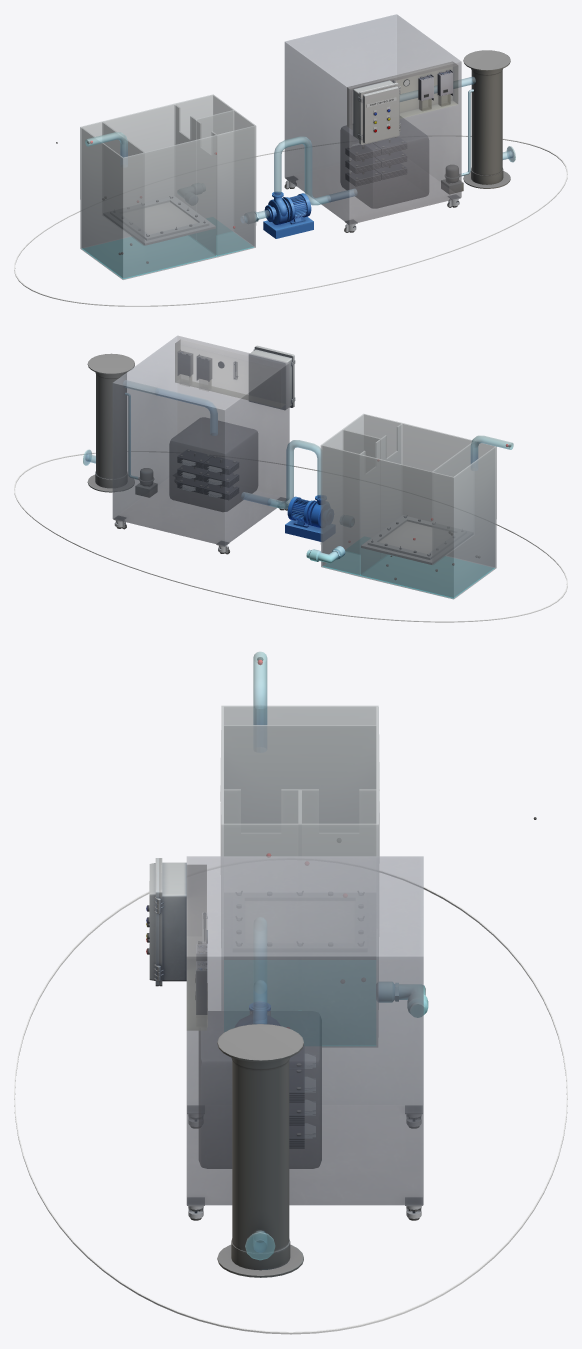
3 renders of one model, top to bottom at view 1: azimuth 30°, elevation 25°; view 2: azimuth 150°, elevation 25°; view 3: azimuth 270°, elevation 25°, orthographic. The views are drawn at different scales.
Visible parts, largest first — view 1: transparent_mesh, Strainer, water_fill_01, CtrllBox, Lauter_filter, Cylinder_02, Pump, SMPS, PUMP_floor, water_fill_02, Pump_small, Electrolyzer_main006 (+3 smaller); view 2: transparent_mesh, Strainer, water_fill_01, CtrllBox, Lauter_filter, Cylinder_02, Pump, SMPS, water_fill_02, PUMP_floor, Pump_small, Electrolyzer_main006 (+5 smaller); view 3: transparent_mesh, Strainer, CtrllBox, Cylinder_02, FootMaster, Lauter_pump, SMPS.
Boxes of the visible parts, x1,y1,x2,y2 form: transparent_mesh: (80, 14, 515, 279); Strainer: (463, 50, 510, 188); water_fill_01: (82, 236, 215, 278); CtrllBox: (353, 80, 399, 144); Lauter_filter: (104, 196, 215, 245); Cylinder_02: (14, 135, 567, 306); Pump: (264, 192, 311, 224); SMPS: (418, 69, 453, 100); PUMP_floor: (263, 216, 313, 238); water_fill_02: (189, 231, 253, 256); Pump_small: (441, 165, 463, 194); Electrolyzer_main006: (345, 143, 380, 160); transparent_mesh: (83, 335, 513, 599); Strainer: (87, 353, 134, 492); water_fill_01: (362, 555, 494, 598); CtrllBox: (248, 345, 294, 410); Lauter_filter: (361, 515, 472, 564); Cylinder_02: (14, 451, 567, 622); Pump: (287, 495, 322, 527); SMPS: (177, 350, 211, 381); water_fill_02: (323, 551, 388, 575); PUMP_floor: (285, 520, 322, 541); Pump_small: (135, 468, 157, 497); Electrolyzer_main006: (204, 456, 238, 474); transparent_mesh: (186, 651, 423, 1260); Strainer: (217, 1024, 303, 1277); CtrllBox: (149, 858, 186, 986); Cylinder_02: (14, 865, 567, 1334); FootMaster: (187, 1105, 422, 1220); Lauter_pump: (376, 982, 428, 1017); SMPS: (195, 944, 207, 1014).
Bounding box in the file's own units: 12.67 × 3.34 × 6.24.
Materials: 7 (2 with a texture image).
